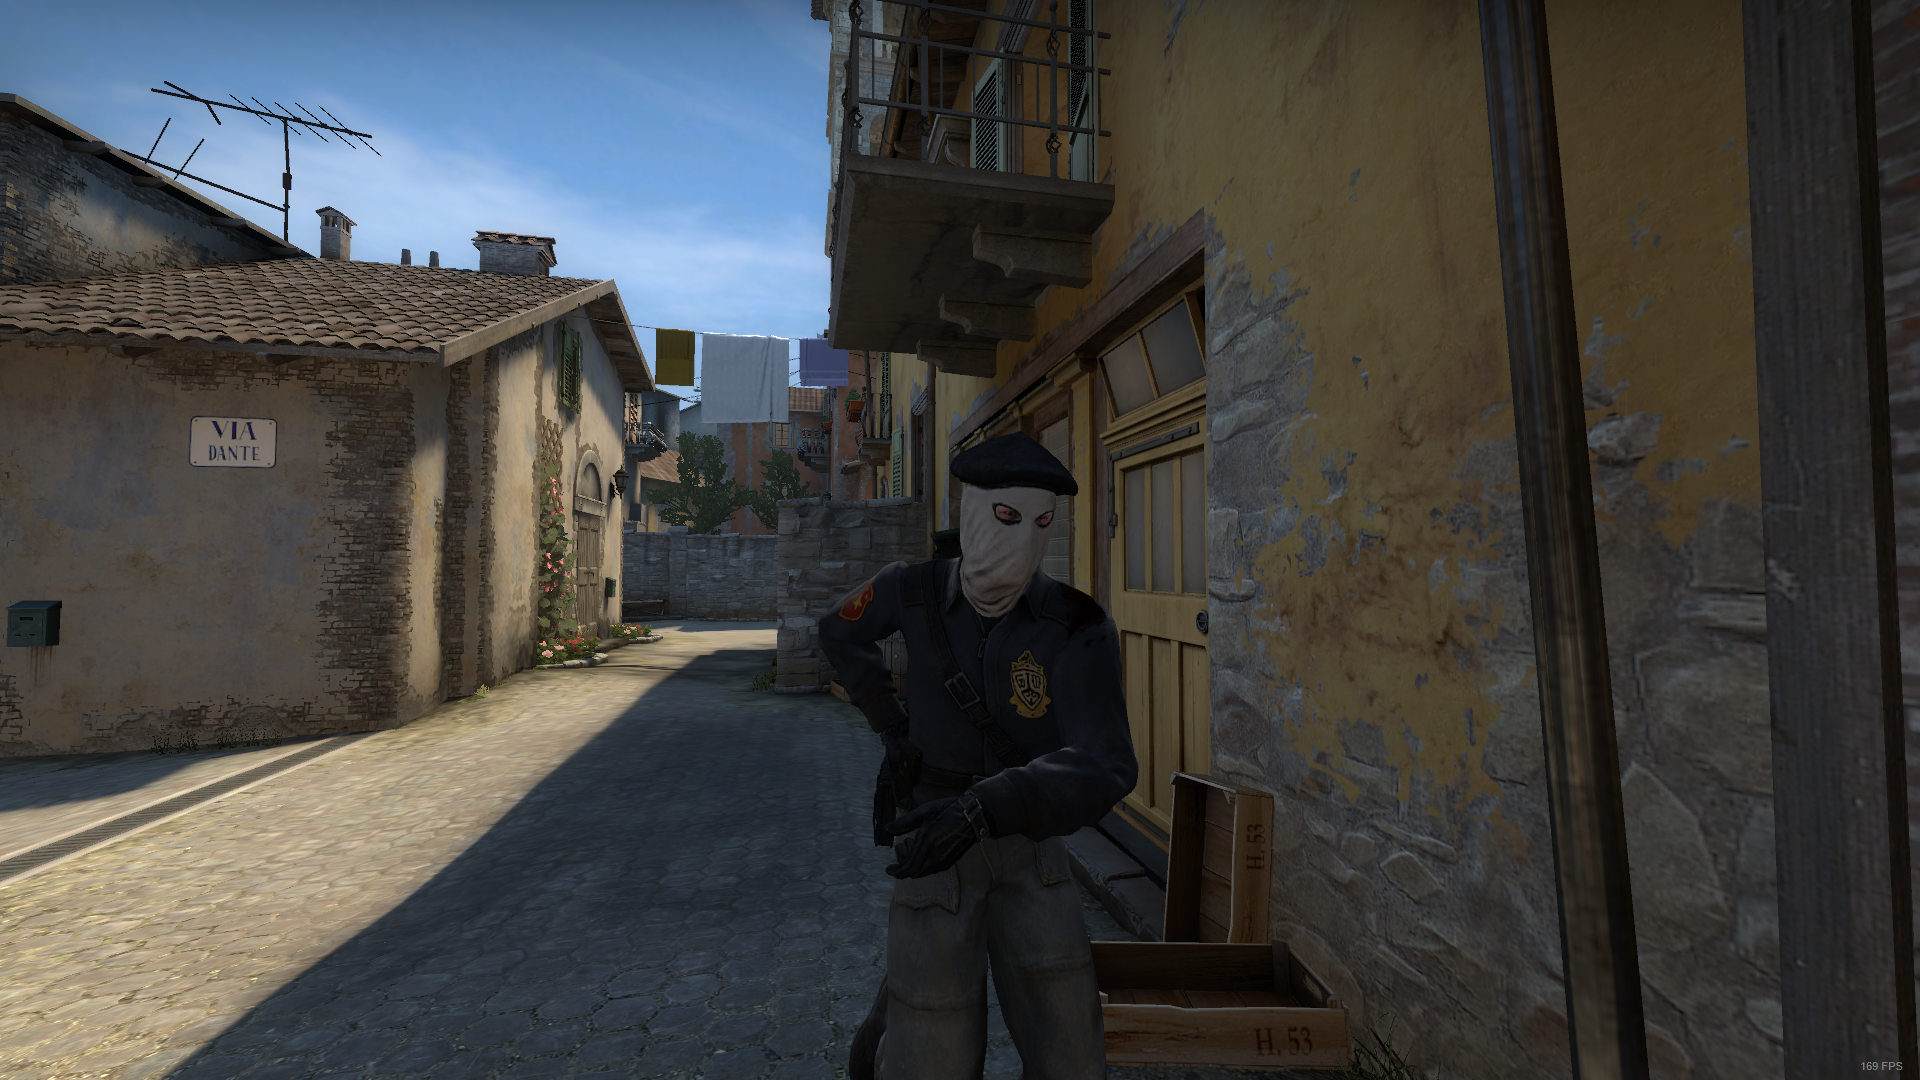t: (814, 431, 1138, 1080)
